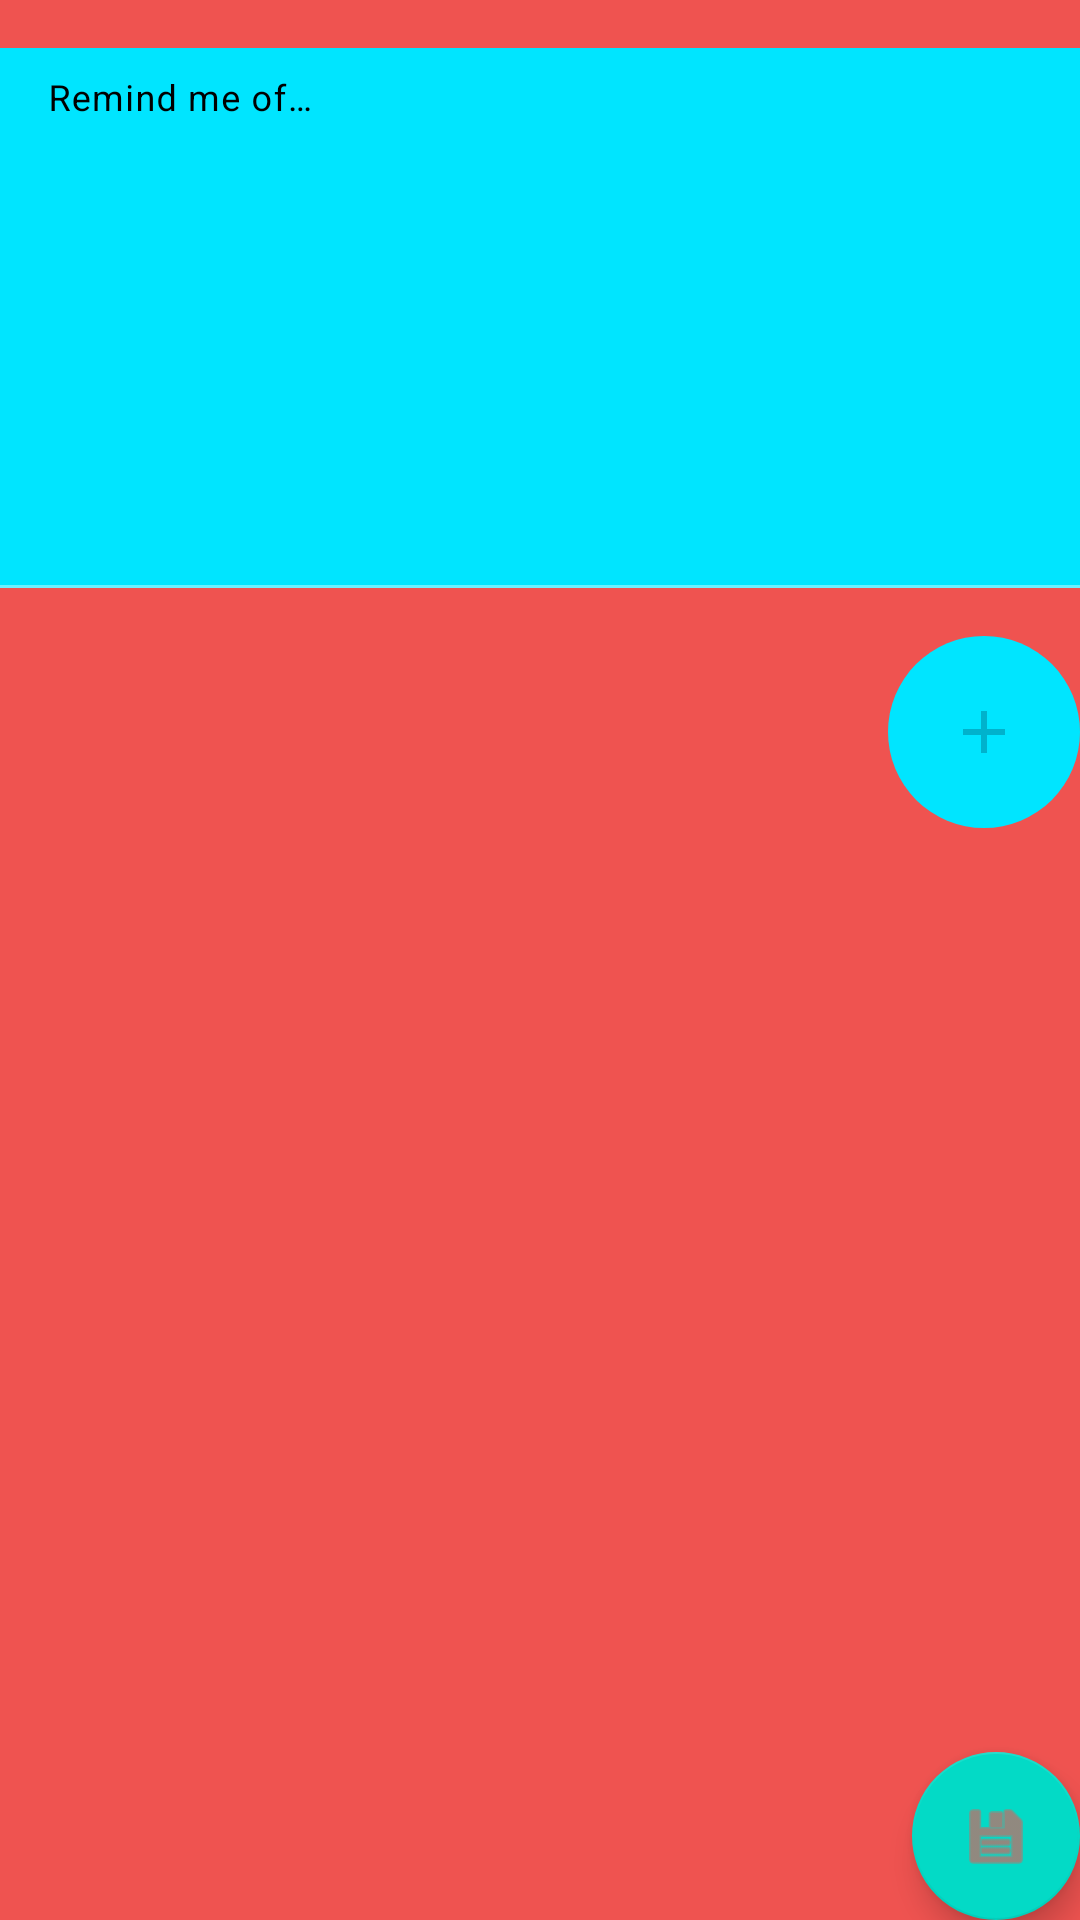

Where icons sit on this 1080x1920 app screen, as (x1,y1,x2,y2):
add: (888,636,1080,828)
Save: (912,1752,1080,1920)
